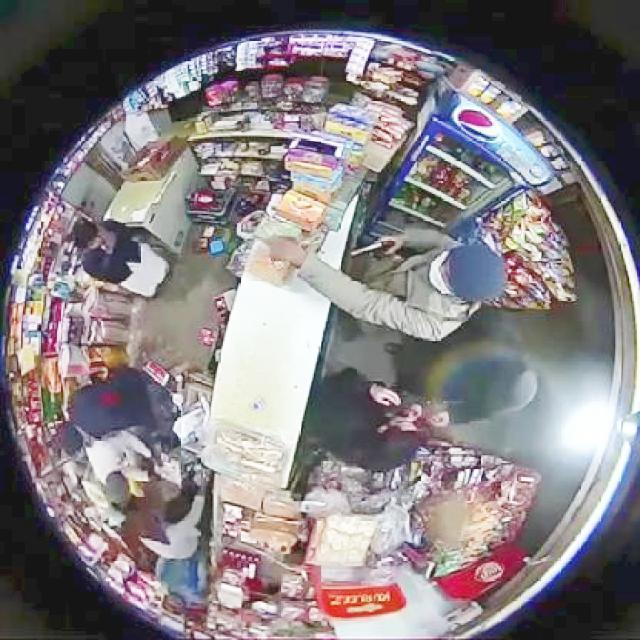Gun: (346, 235, 414, 281)
